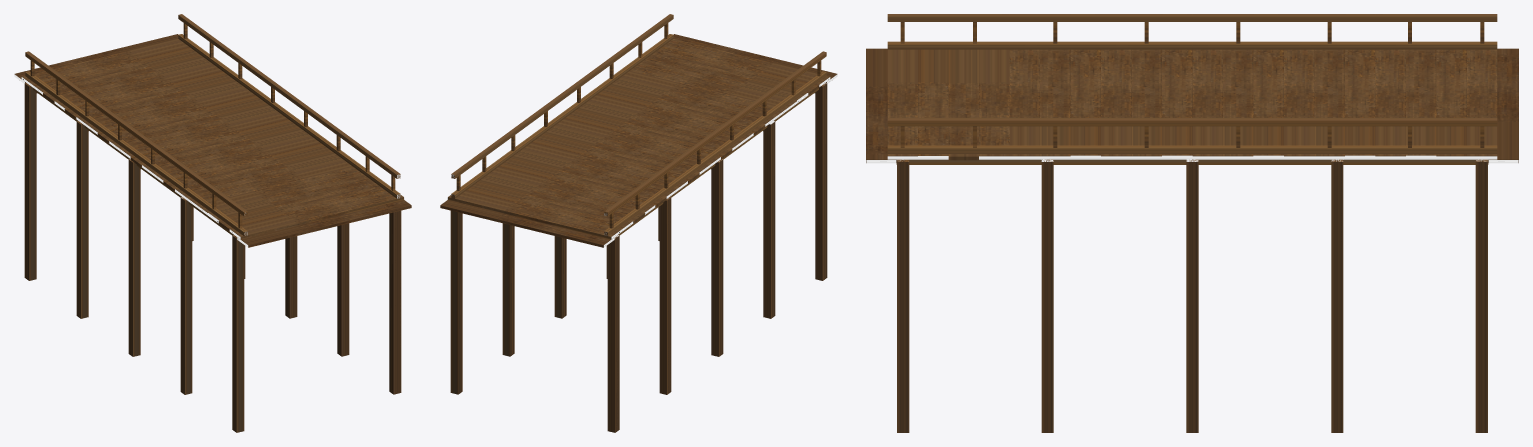
The model's file is objects_un_bridge01_02.gltf.
3 views of the same model, side by side, from view 1: azimuth 30°, elevation 25°; view 2: azimuth 150°, elevation 25°; view 3: azimuth 270°, elevation 25° (orthographic). The views are drawn at different scales.
Visible parts, largest first — view 1: um_objects_un_bridge02_model_lod0Shape:objects_un_bridge01_p, um_objects_un_bridge02_model_lod0Shape:objects_un_bridge01_w, um_objects_un_bridge02_model_lod1Shape:objects_un_bridge01_w, um_objects_un_bridge02_model_lod0Shape:objects_un_bridge01_s; view 2: um_objects_un_bridge02_model_lod0Shape:objects_un_bridge01_p, um_objects_un_bridge02_model_lod0Shape:objects_un_bridge01_w, um_objects_un_bridge02_model_lod1Shape:objects_un_bridge01_w, um_objects_un_bridge02_model_lod0Shape:objects_un_bridge01_s; view 3: um_objects_un_bridge02_model_lod0Shape:objects_un_bridge01_p, um_objects_un_bridge02_model_lod0Shape:objects_un_bridge01_w, um_objects_un_bridge02_model_lod1Shape:objects_un_bridge01_w, um_objects_un_bridge02_model_lod0Shape:objects_un_bridge01_s.
Boxes of the visible parts, x1,y1,x2,y2 form: um_objects_un_bridge02_model_lod0Shape:objects_un_bridge01_p: [14, 34, 411, 247]; um_objects_un_bridge02_model_lod0Shape:objects_un_bridge01_w: [24, 14, 401, 432]; um_objects_un_bridge02_model_lod1Shape:objects_un_bridge01_w: [25, 83, 400, 431]; um_objects_un_bridge02_model_lod0Shape:objects_un_bridge01_s: [14, 74, 404, 247]; um_objects_un_bridge02_model_lod0Shape:objects_un_bridge01_p: [440, 34, 837, 247]; um_objects_un_bridge02_model_lod0Shape:objects_un_bridge01_w: [450, 14, 827, 432]; um_objects_un_bridge02_model_lod1Shape:objects_un_bridge01_w: [452, 160, 720, 430]; um_objects_un_bridge02_model_lod0Shape:objects_un_bridge01_s: [447, 74, 837, 247]; um_objects_un_bridge02_model_lod0Shape:objects_un_bridge01_p: [866, 48, 1518, 162]; um_objects_un_bridge02_model_lod0Shape:objects_un_bridge01_w: [887, 14, 1497, 432]; um_objects_un_bridge02_model_lod1Shape:objects_un_bridge01_w: [897, 160, 1487, 432]; um_objects_un_bridge02_model_lod0Shape:objects_un_bridge01_s: [866, 155, 1518, 163].
Size of what is drawn, in the model's own units: 6.53 by 8.4 by 16.05.
Materials: 3 (2 with a texture image).
